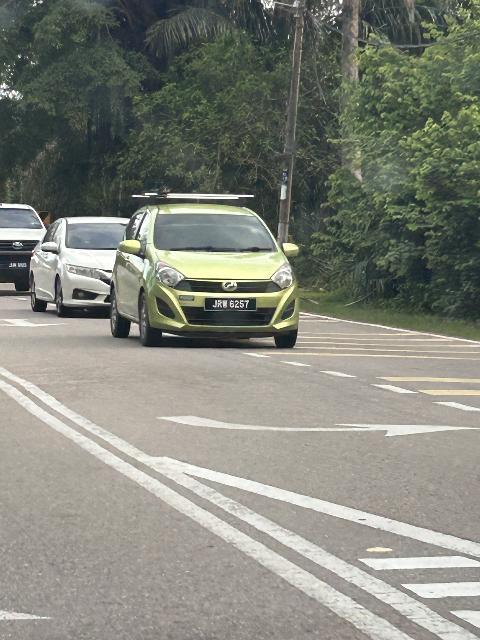JRW8257: (205, 297, 257, 313)
License_Plate: (205, 297, 257, 313)
car: (106, 189, 304, 350), (28, 217, 144, 314), (2, 202, 55, 295)
